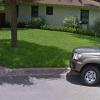Car: (62, 39, 100, 91)
